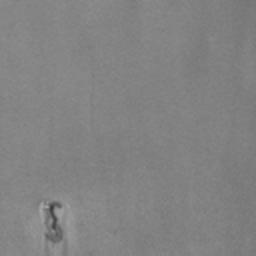Slag inclusion: (45, 201, 64, 244), (76, 221, 85, 233)
